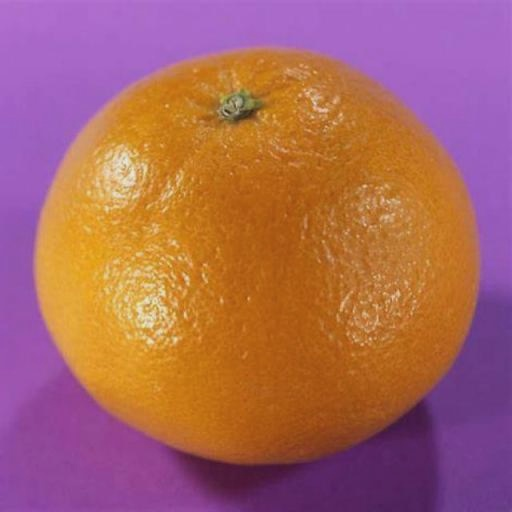fruit: (36, 49, 477, 463)
